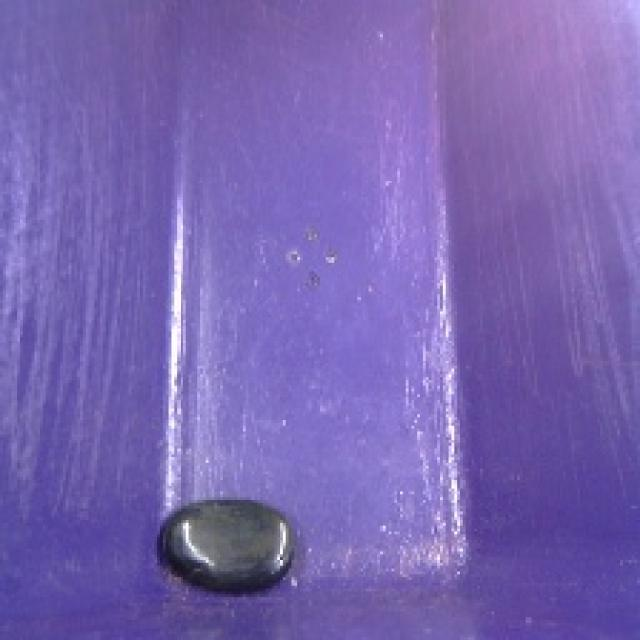cobbles: (154, 483, 304, 602)
